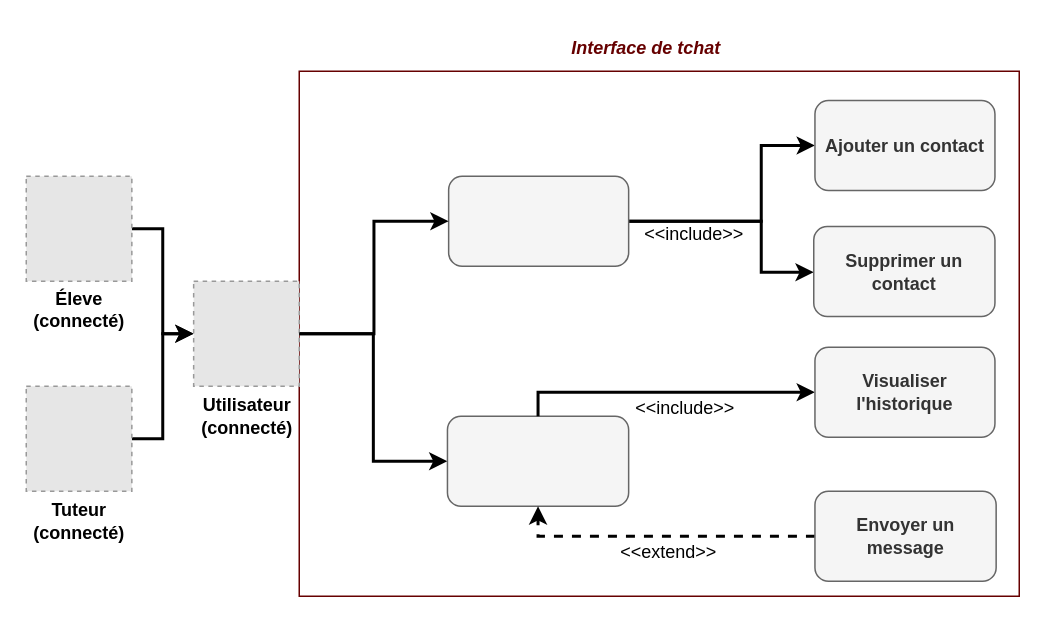
This 1046x623 diagram has some shape labels left out. Grey dashed boxes stand in for pictures. Here are the shapes that lost their labels. From the top down, the centre of each, then its label:
At point (538, 220): "Gérer les contacts".
At point (537, 460): "Consulter une conversation".
